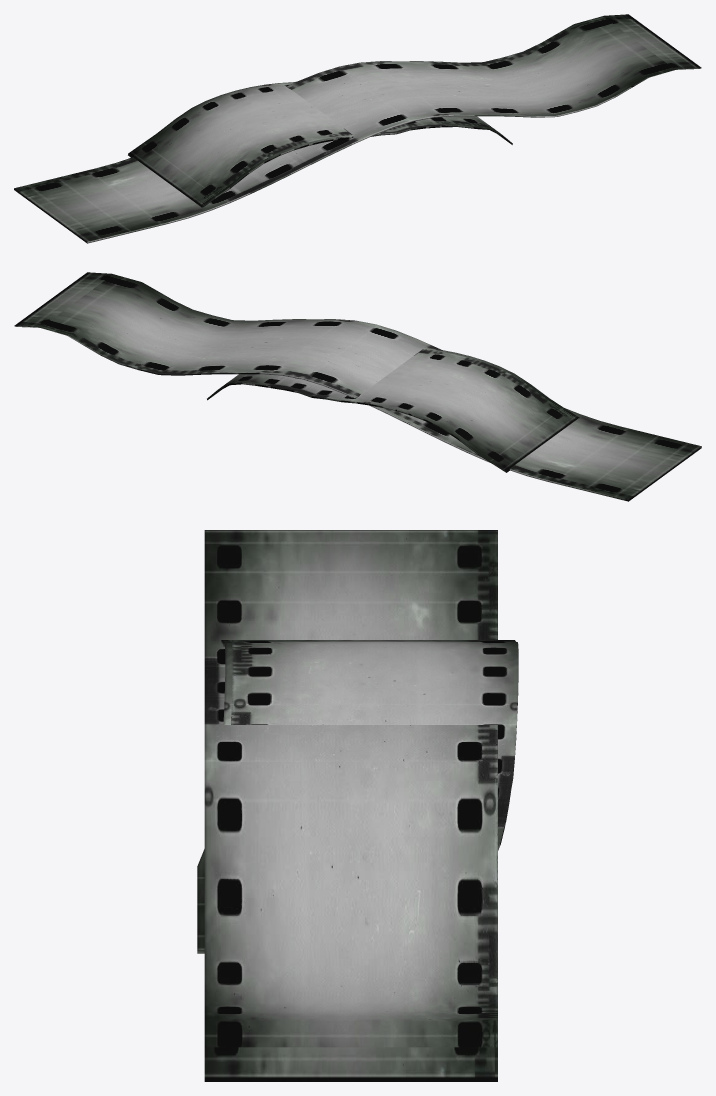
Rendered from fragments_v2.fbx.
The picture shows the model from 3 angles, top to bottom: view 1: azimuth 30°, elevation 25°; view 2: azimuth 150°, elevation 25°; view 3: azimuth 270°, elevation 25°; orthographic projection. The views are drawn at different scales.
Visible parts, largest first — view 1: fragment.5, fragment.4; view 2: fragment.5, fragment.4; view 3: fragment.5, fragment.4.
Boxes of the visible parts, x1,y1,x2,y2 form: fragment.5: (14, 14, 701, 243); fragment.4: (128, 81, 512, 207); fragment.5: (14, 272, 701, 501); fragment.4: (207, 347, 579, 472); fragment.5: (204, 530, 497, 1081); fragment.4: (197, 640, 518, 953).
Size of the model in its own units: 378 by 27.97 by 85.53.
